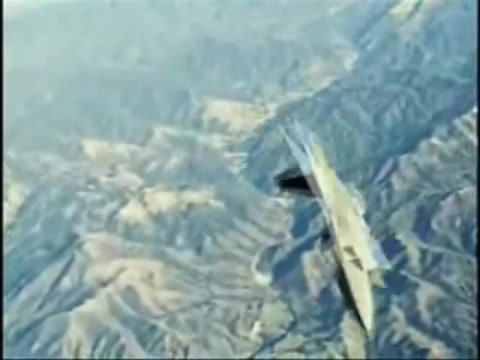aeroplane: (272, 117, 394, 346)
